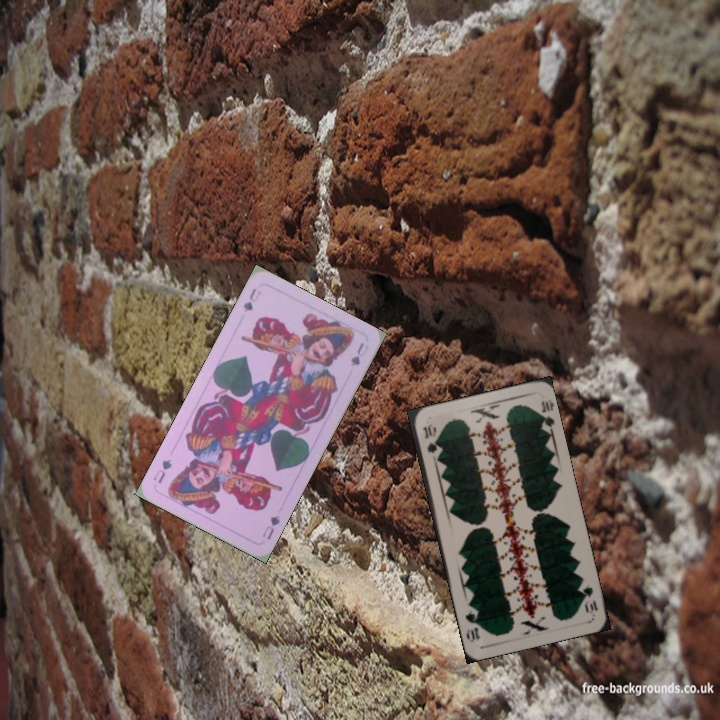G10: (577, 583, 601, 616), (418, 420, 439, 456)
GU: (239, 284, 264, 315), (258, 511, 282, 542)
